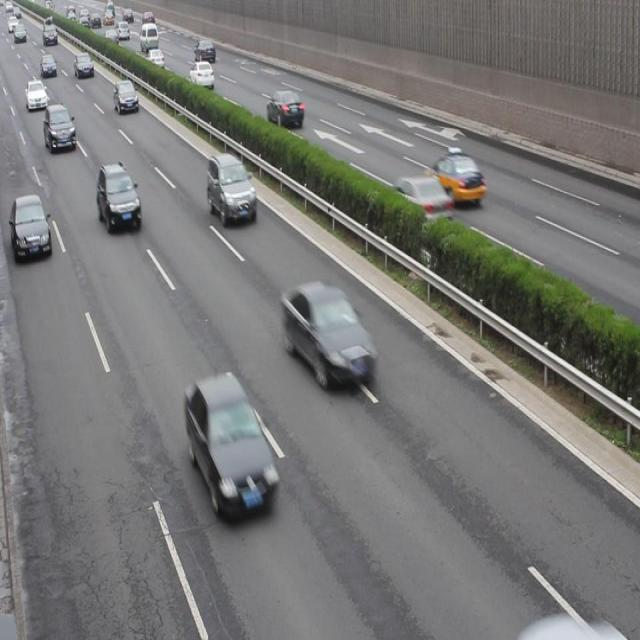car: (185, 372, 276, 522), (283, 280, 377, 393), (388, 174, 451, 233), (206, 151, 256, 225), (428, 151, 485, 208), (97, 162, 141, 233), (10, 193, 52, 259), (43, 102, 77, 152), (267, 89, 304, 129), (113, 79, 139, 115), (188, 61, 214, 90)
